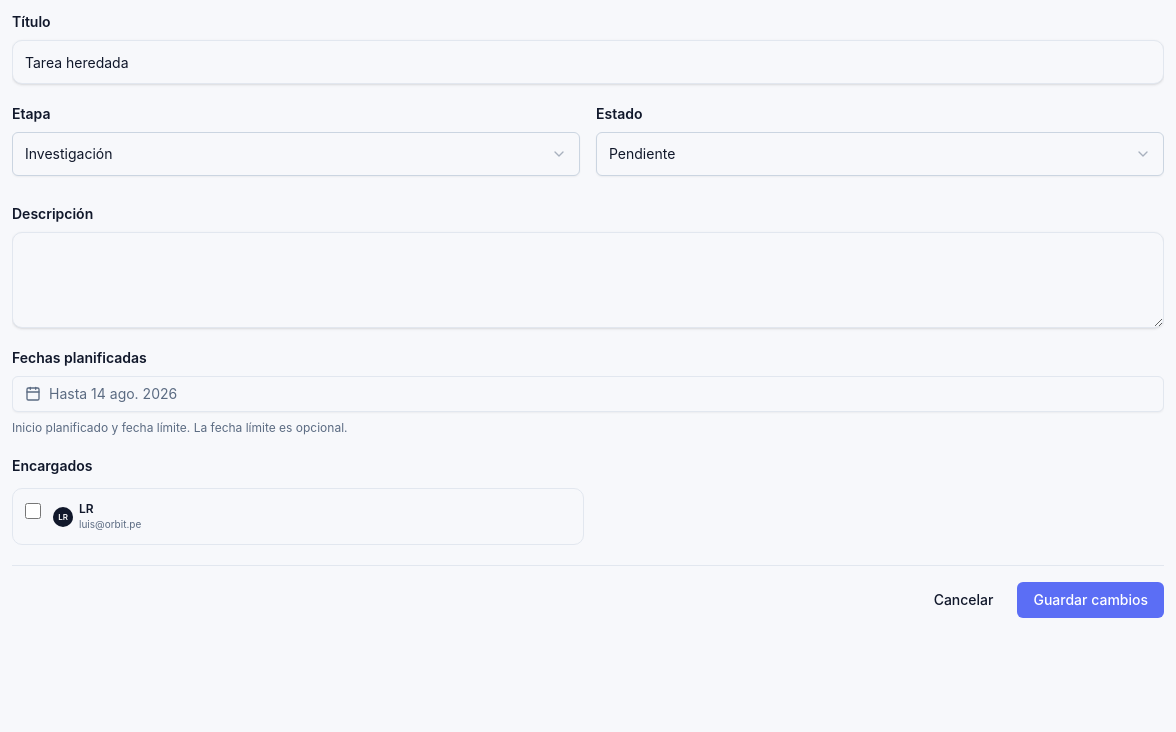
Scenario: ProjectTaskForm › rejects a legacy deadline that has no planned start
This screenshot has width=1176, height=732.
Click the button "Guardar cambios" at (1091, 600), box [1018, 582, 1164, 618]
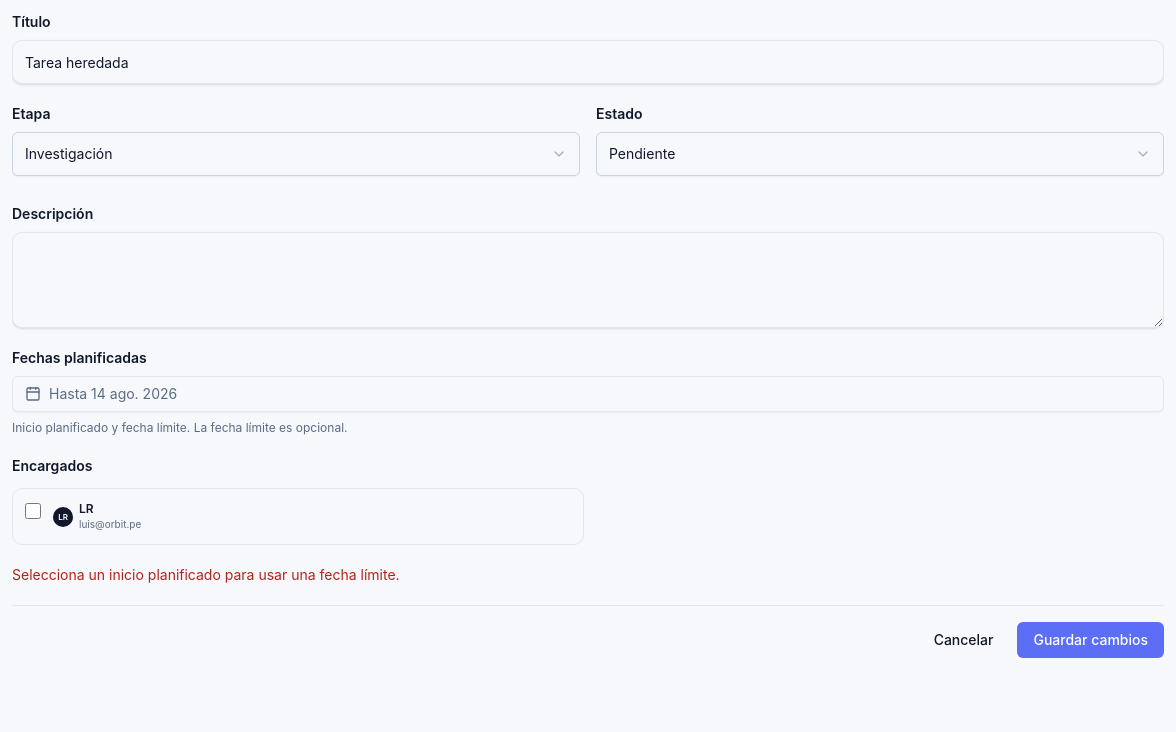
Result: the message reads "Selecciona un inicio planificado para usar una fecha límite." at [12, 566, 400, 583]
